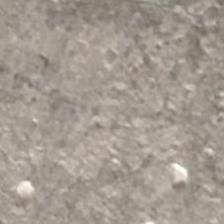Non_Crack: (30, 22, 214, 198)
